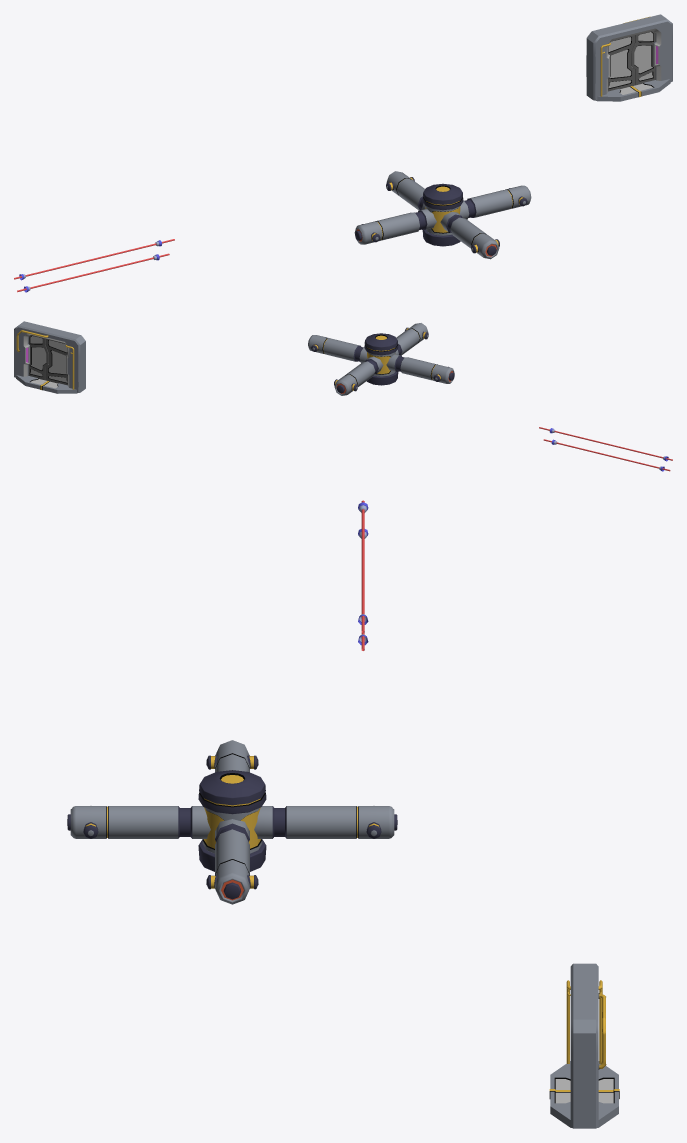
3 renders of one model, top to bottom at view 1: azimuth 30°, elevation 25°; view 2: azimuth 150°, elevation 25°; view 3: azimuth 270°, elevation 25°, orthographic. The views are drawn at different scales.
Visible parts, largest first — view 1: pCylinder14 (×4), Base, pCylinder13, Right, Left, Base5; view 2: pCylinder14 (×4), Base, pCylinder13, Right, Left, Base5, Laser (×2); view 3: pCylinder14 (×4), Base, pCylinder13, Base5.
Part boxes in pixels (left/top/right/bottom): pCylinder14 (×4): left=354, top=171, right=531, bottom=259; Base: left=586, top=14, right=672, bottom=100; pCylinder13: left=422, top=183, right=463, bottom=246; Right: left=608, top=35, right=635, bottom=91; Left: left=631, top=30, right=655, bottom=85; Base5: left=596, top=79, right=670, bottom=101; pCylinder14 (×4): left=308, top=323, right=454, bottom=395; Base: left=14, top=321, right=85, bottom=392; pCylinder13: left=364, top=333, right=398, bottom=385; Right: left=45, top=338, right=67, bottom=385; Left: left=28, top=335, right=48, bottom=380; Base5: left=16, top=375, right=77, bottom=393; Laser (×2): left=539, top=427, right=672, bottom=471; pCylinder14 (×4): left=67, top=740, right=397, bottom=904; Base: left=570, top=963, right=598, bottom=1128; pCylinder13: left=198, top=770, right=266, bottom=871; Base5: left=549, top=1061, right=619, bottom=1127.
Size of the model in its own units: 494 by 42.76 by 197.
